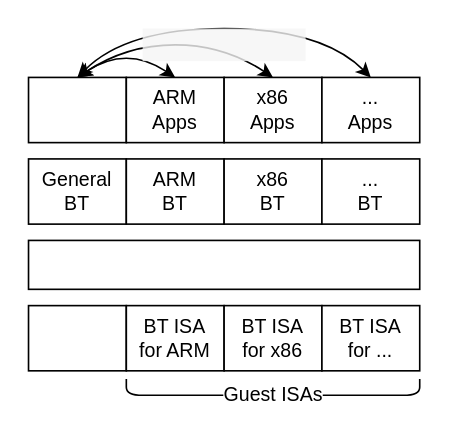
Some shapes in this 450 by 435 pixel diagram are drawn without their labels. Here are the shapes that lost their labels. From the top down, the centre of each, then its label:
point 223,44: payload balance
point 76,109: Host Apps
point 223,264: Kernel (Shedule: ensure payload balance)
point 76,337: Host ISA
